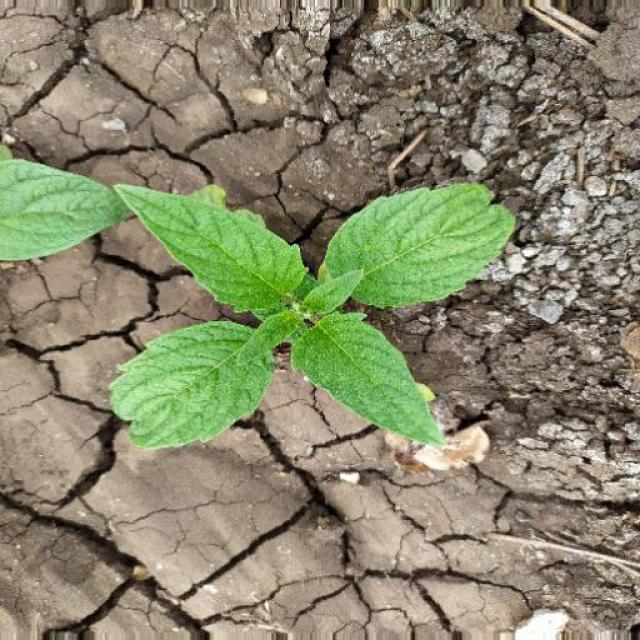crop: (109, 165, 518, 457)
